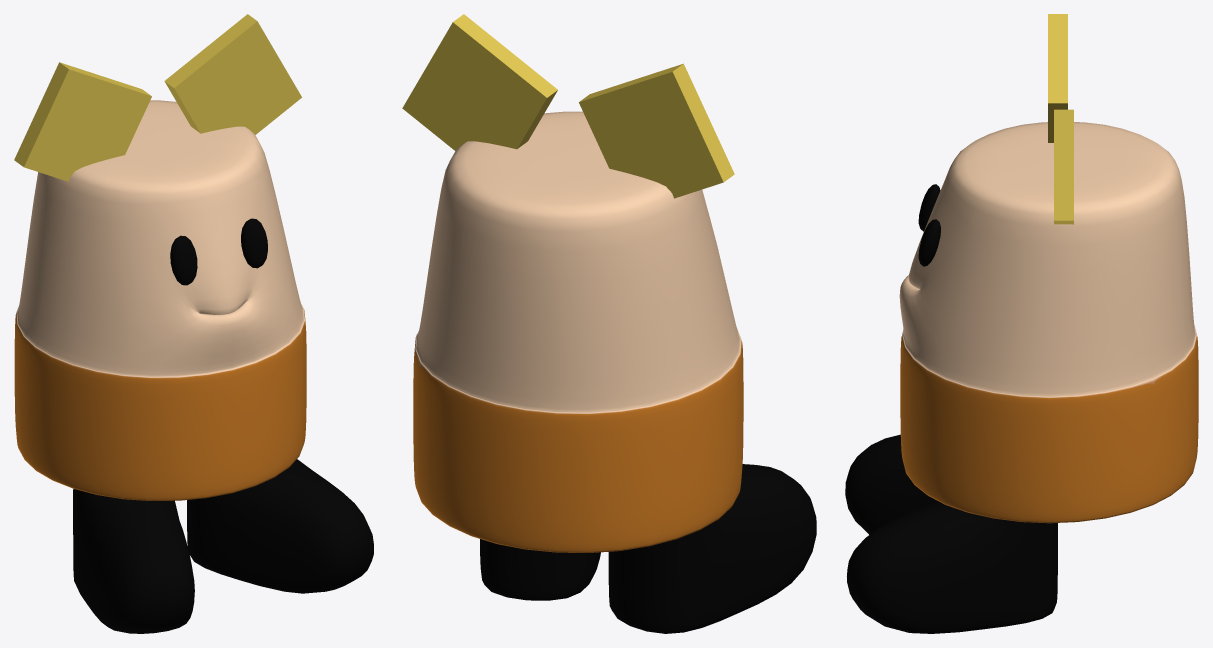
Rendered from NPC-5.fbx.
3 renders of one model, left to right at view 1: azimuth 30°, elevation 25°; view 2: azimuth 150°, elevation 25°; view 3: azimuth 270°, elevation 25°, orthographic. The views are drawn at different scales.
Parts seen in each view (by area): view 1: pCylinder6, pCube35, pCube33, pCube37, pCube36, pCube32, pCube34; view 2: pCylinder6, pCube33, pCube37, pCube36, pCube35; view 3: pCylinder6, pCube35, pCube33, pCube36, pCube37, pCube34, pCube32.
Part boxes in pixels (x1,y1,x2,y2): pCylinder6: (14,100,306,500); pCube35: (187,459,373,593); pCube33: (73,489,194,633); pCube37: (14,62,151,181); pCube36: (164,14,301,134); pCube32: (170,235,197,285); pCube34: (241,218,267,268); pCylinder6: (413,111,743,552); pCube33: (608,464,816,633); pCube37: (579,63,734,198); pCube36: (402,14,557,150); pCube35: (480,539,600,600); pCylinder6: (899,122,1198,523); pCube35: (847,502,1057,633); pCube33: (845,434,939,534); pCube36: (1054,109,1073,224); pCube37: (1048,14,1067,142); pCube34: (918,219,940,266); pCube32: (918,184,940,231).
Size of the model in its own units: 240 by 415 by 257.
Materials: 3 (1 with a texture image).
